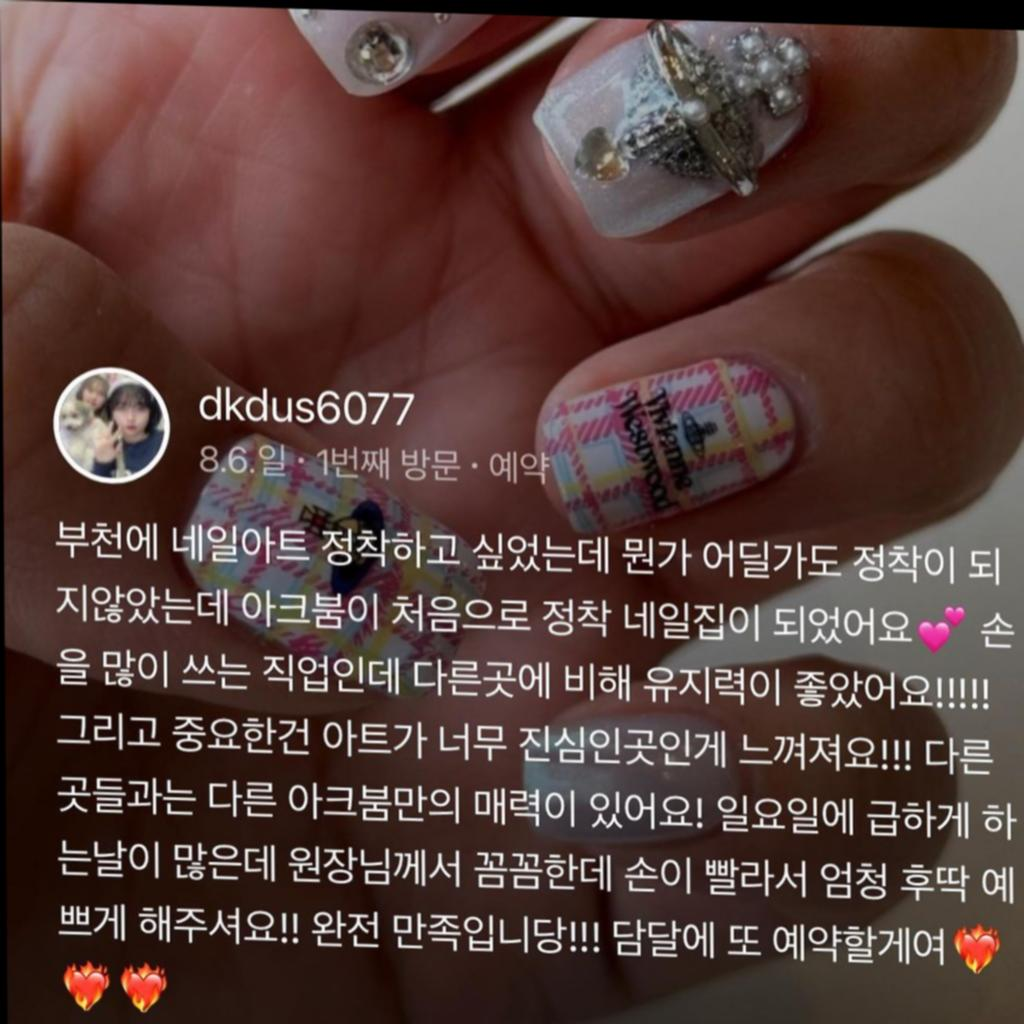nail: (530, 16, 815, 244), (534, 347, 801, 543), (427, 13, 668, 122), (284, 8, 532, 103)
